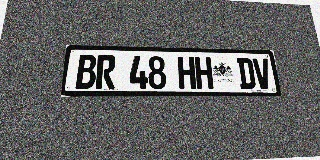4: (130, 56, 148, 89)
8: (148, 56, 166, 89)
B: (75, 54, 97, 89)
D: (237, 58, 256, 89)
H: (195, 57, 214, 89), (178, 57, 196, 89)
R: (96, 55, 116, 89)
V: (252, 58, 272, 89)
